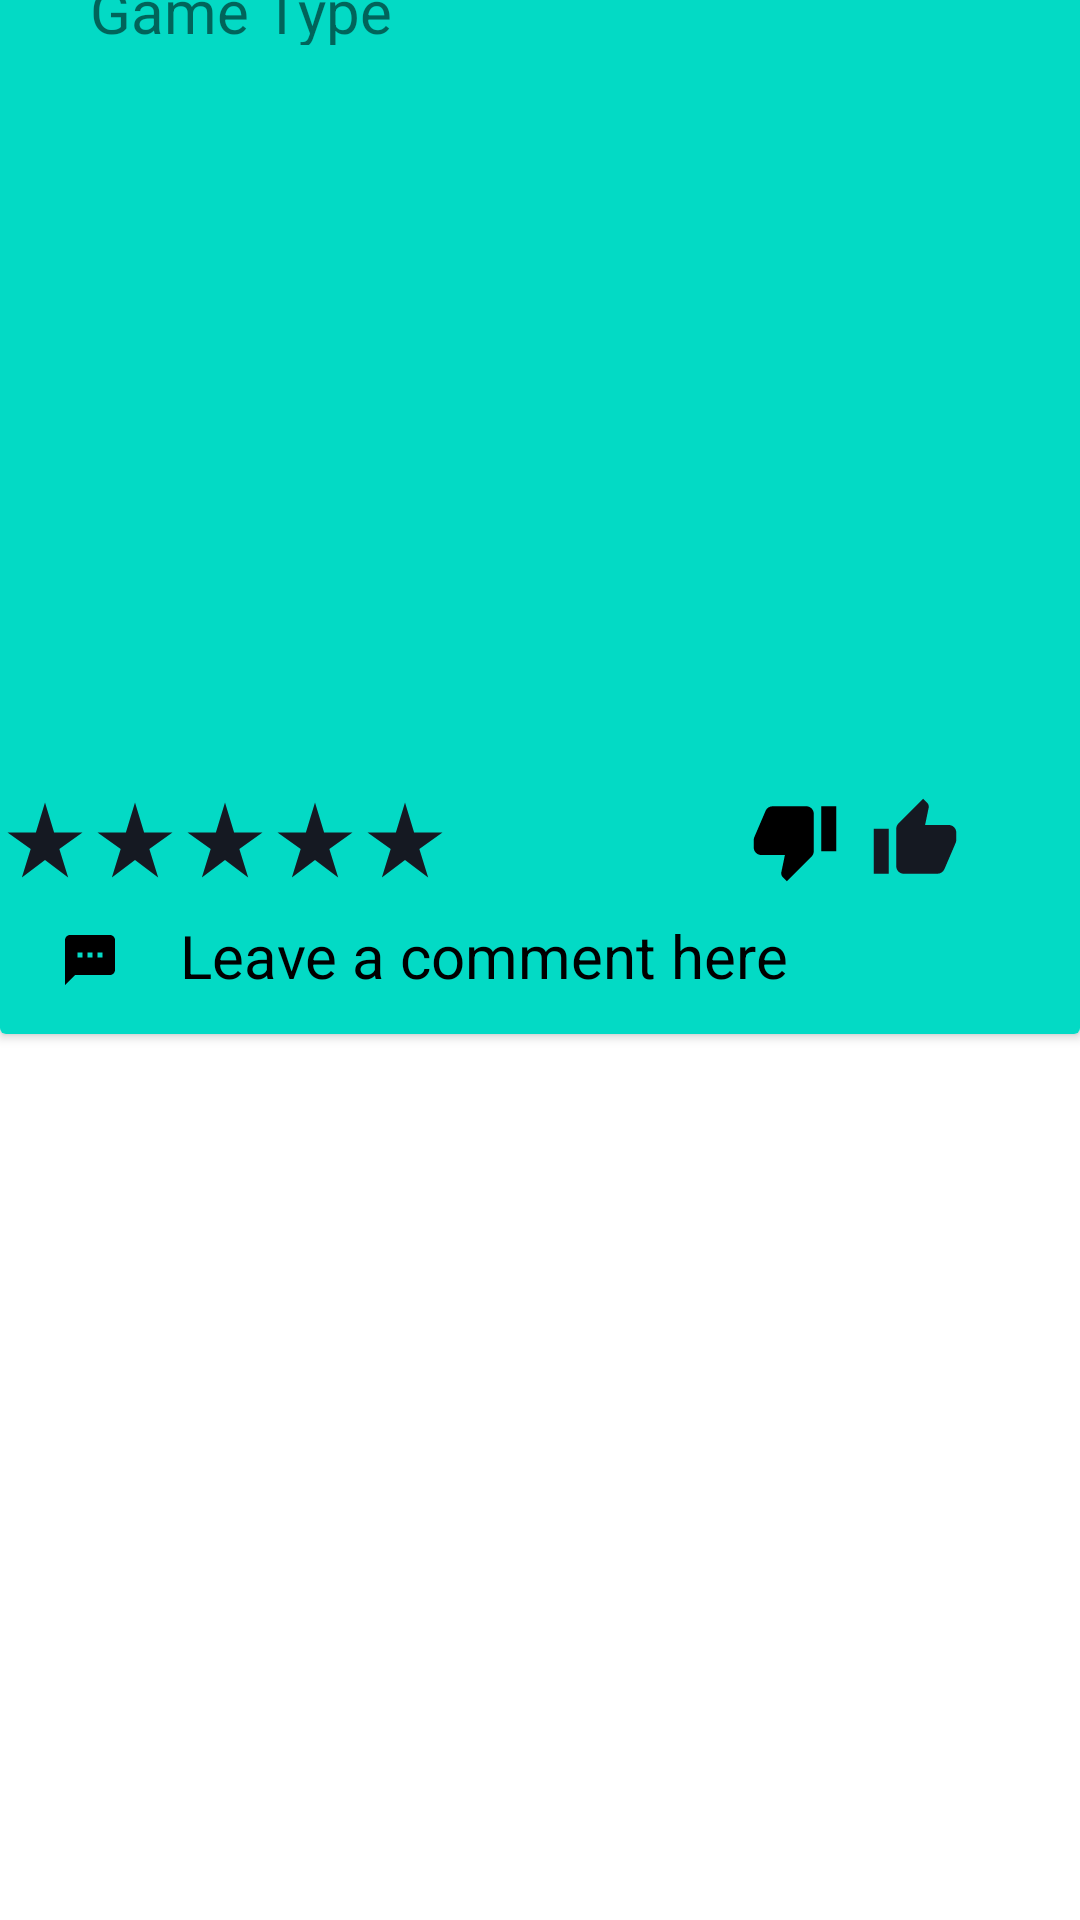

Named icons in this screenshot (1080w x 1920h) and their centers, [x,y]:
comments: [90,960]
dislike: [795,843]
like: [915,836]
star: [45,840], [135,840], [225,840], [315,840], [405,840]
